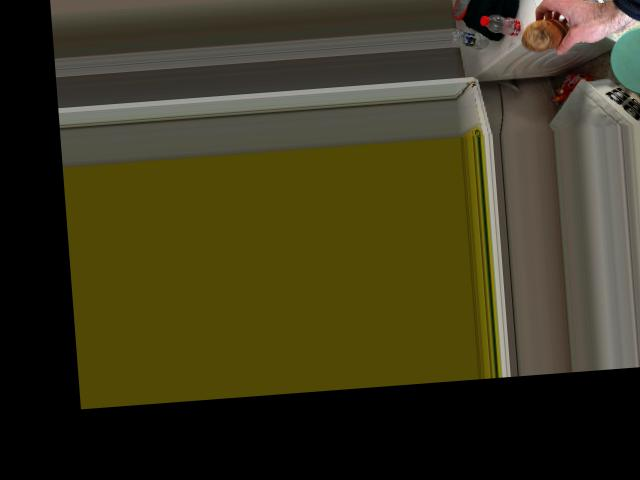sweet_potato: (517, 14, 574, 58)
